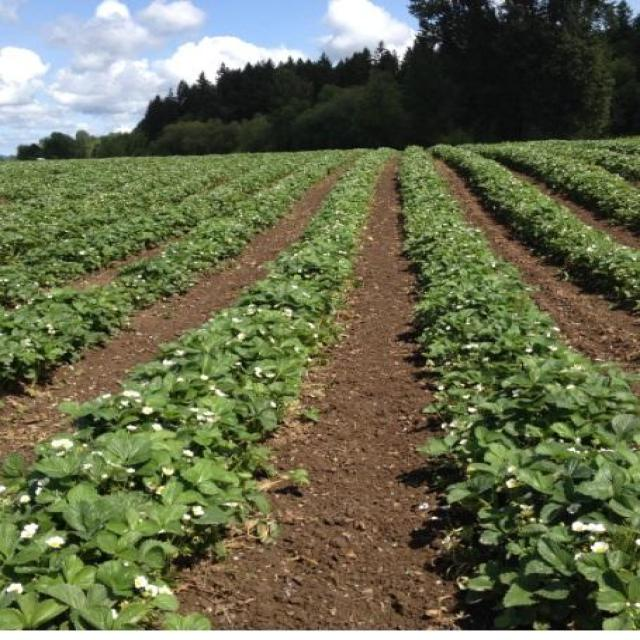row: (159, 157, 547, 632), (0, 152, 365, 484), (431, 153, 640, 413), (488, 152, 640, 256)
